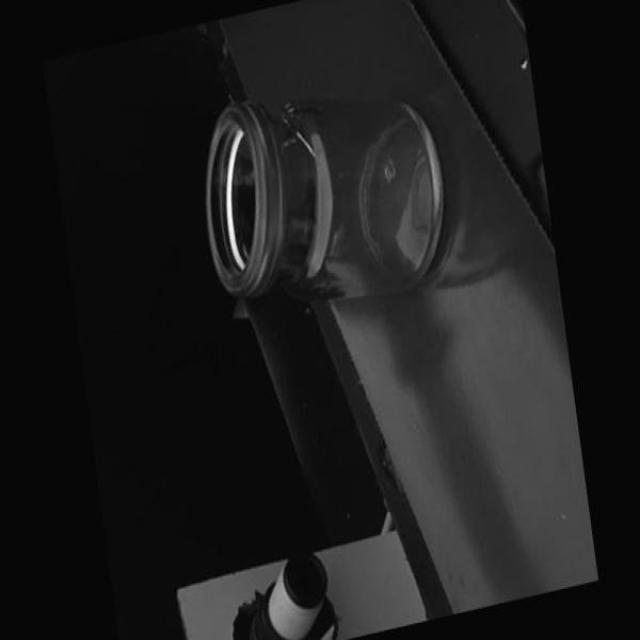defect: (293, 122, 318, 162)
glass: (191, 55, 455, 332)
